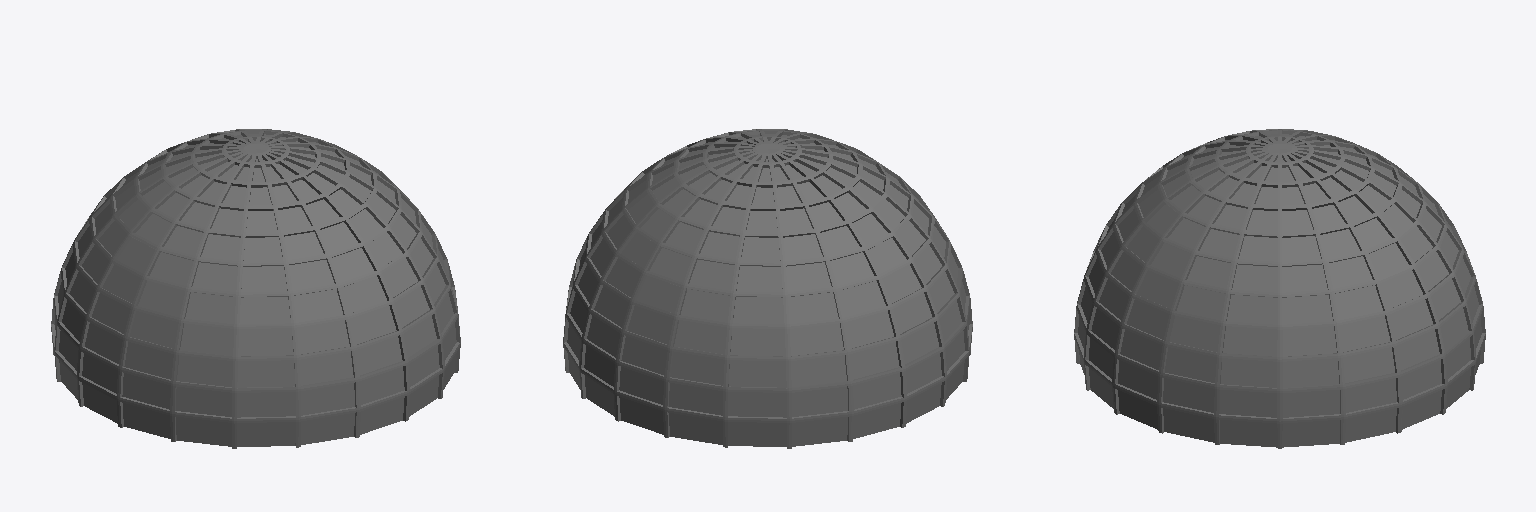
The model's file is domething.obj.
3 views of the same model, side by side, from view 1: azimuth 30°, elevation 25°; view 2: azimuth 150°, elevation 25°; view 3: azimuth 270°, elevation 25° (orthographic).
Visible parts, largest first — view 1: pSphere6; view 2: pSphere6; view 3: pSphere6.
Part boxes in pixels (left/top/right/bottom): pSphere6: left=51, top=129, right=460, bottom=448; pSphere6: left=563, top=129, right=972, bottom=448; pSphere6: left=1074, top=129, right=1485, bottom=448.
Bounding box in the file's own units: 10.64 × 6.13 × 10.64.